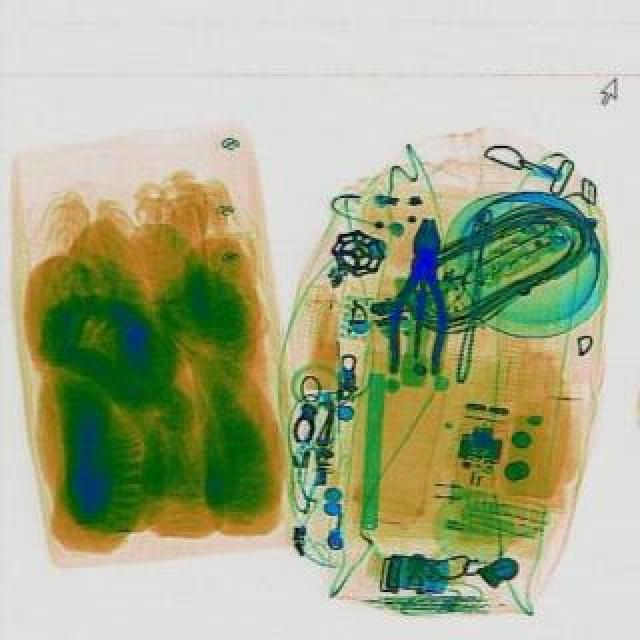wrench: (388, 214, 460, 374)
